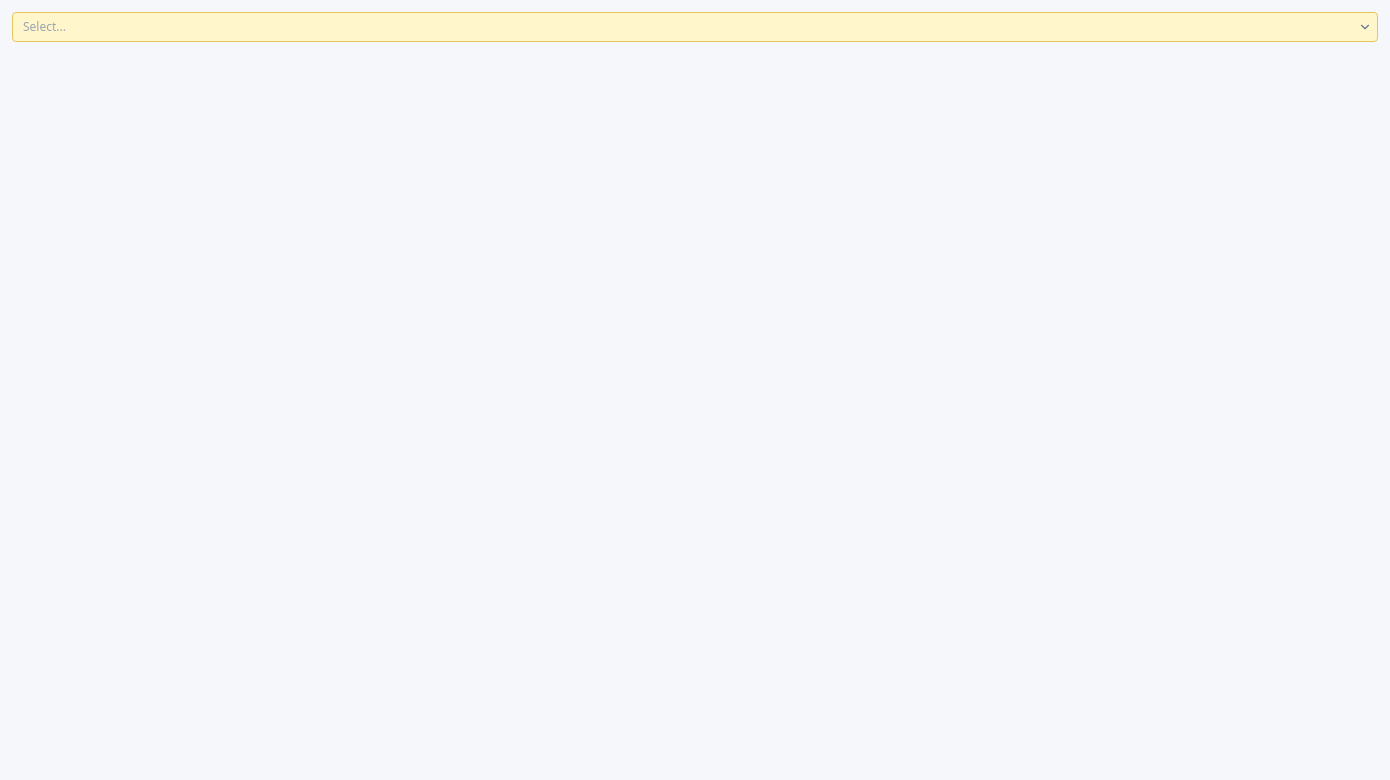
Test: SearchableSelect portal list › closes on outside click but not on a click inside the portalled list
The width and height of the screenshot is (1390, 780).
Click the dropdown named "Supplier": [695, 27] box [12,12,1378,42]
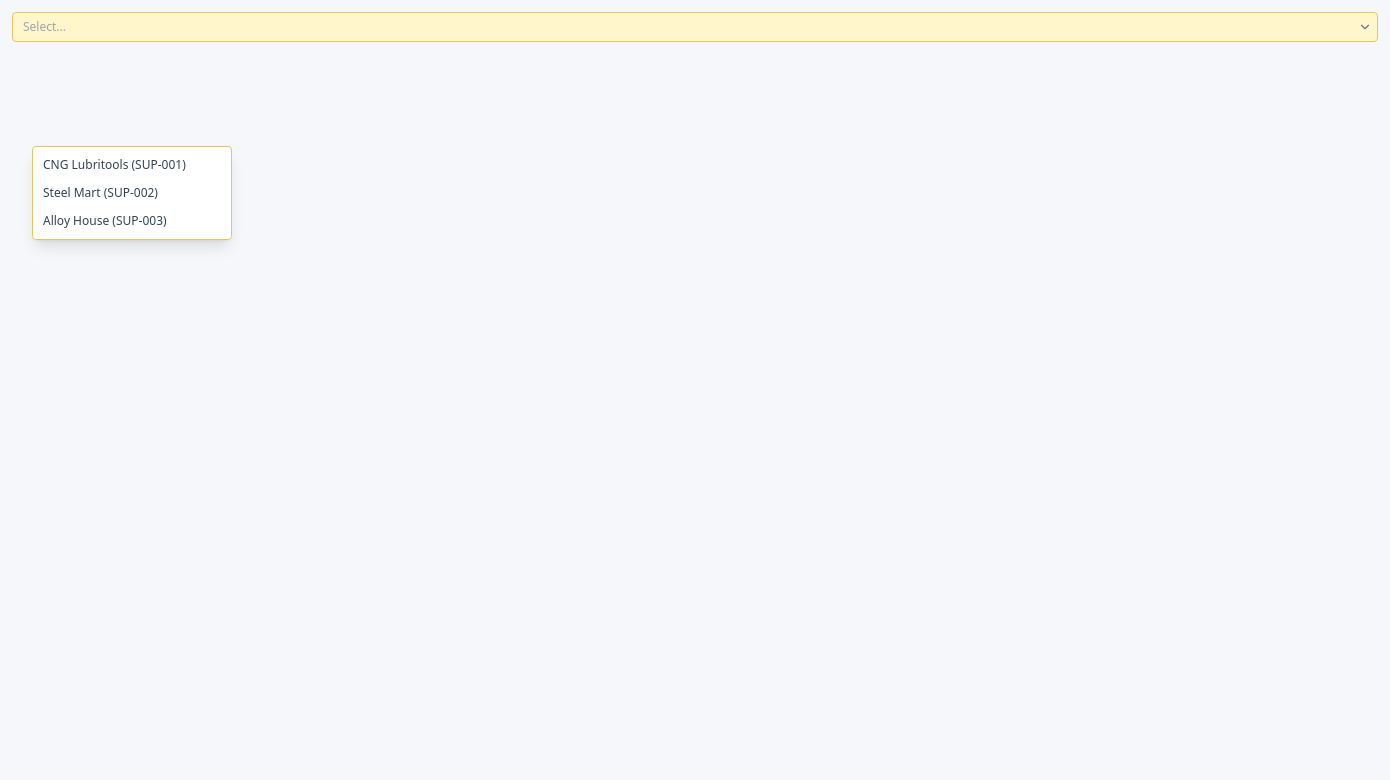
Press the mouse on the list: [132, 193] box [32,146,232,240]
Result: the list is shown at [32,146,232,240]
Press the mouse on the element that starts with "CNG Lubritools (SUP-001)": [695, 396] box [12,12,1378,779]
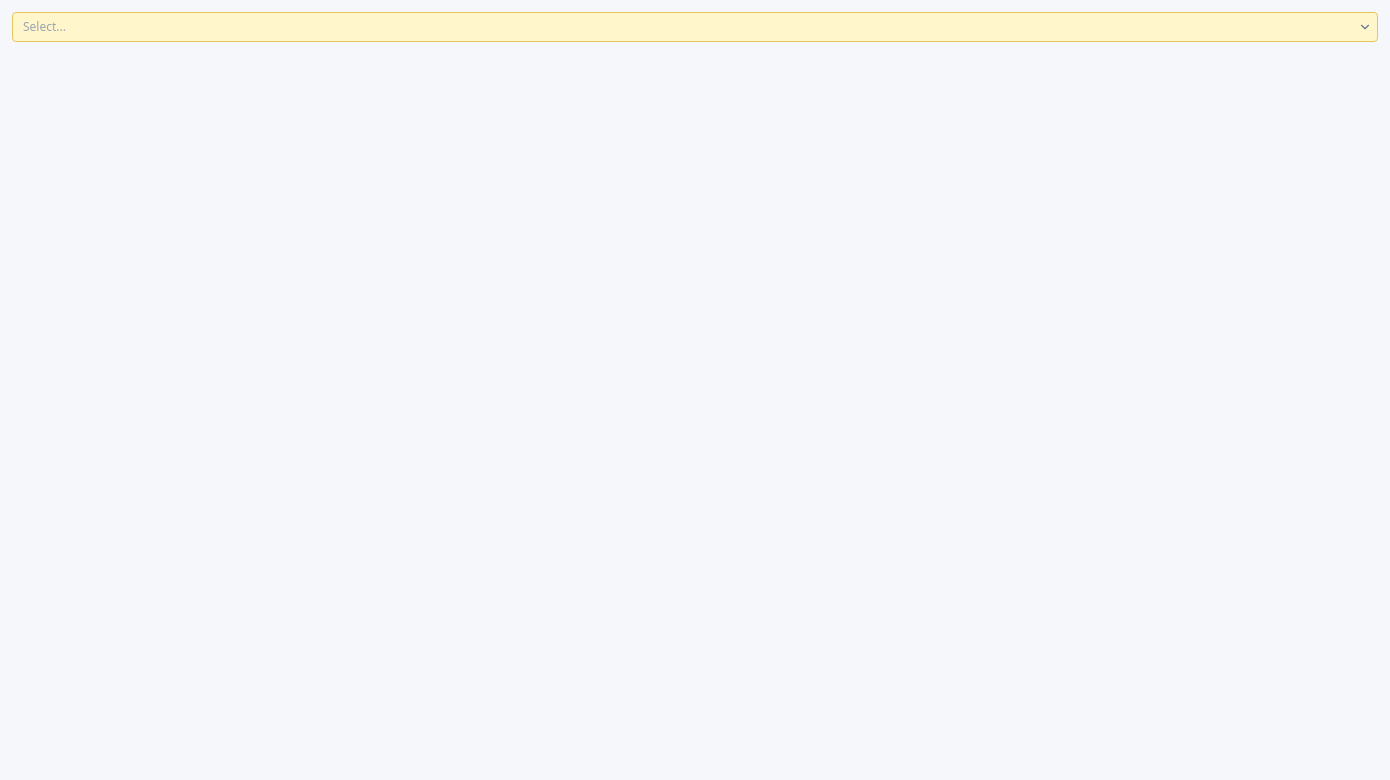
Result: the list is gone
